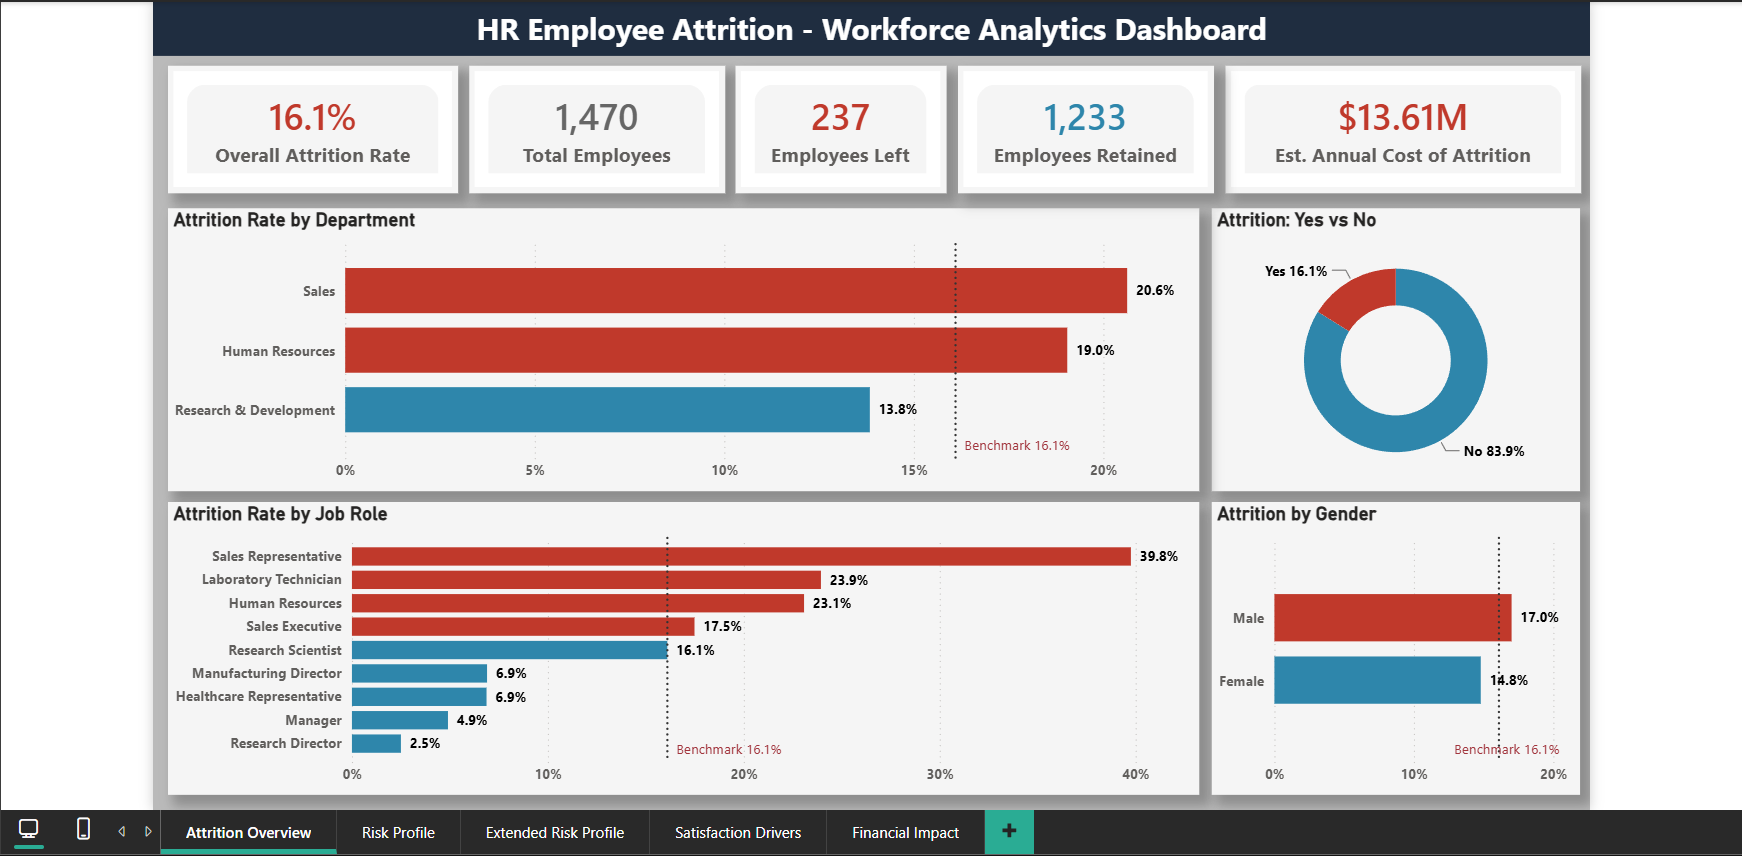

This screenshot's page, from the dashboard's own definition file:
{"tool":"powerbi","page":{"name":"Attrition Overview","canvas":[1280,720],"ordinal":0},"visuals":[{"type":"textbox","box":[0,0,1279,49],"z":0},{"type":"cardVisual","fields":{"Data":["HR Measures.Attrition Rate %"]},"box":[12.9,56.6,258.6,113.2],"z":1000},{"type":"cardVisual","fields":{"Data":["HR Measures.Total Employees"]},"box":[281.5,56.6,227.7,113.2],"z":2000},{"type":"cardVisual","fields":{"Data":["HR Measures.Employees Left"]},"box":[519.2,56.6,187.9,113.2],"z":3000},{"type":"cardVisual","fields":{"Data":["HR Measures.Total Annual Attrition Cost"]},"box":[954.7,56.6,316.5,113.2],"z":4000},{"type":"donutChart","title":"Attrition: Yes vs No","fields":{"Category":["Cleaned_Data.Attrition"],"Y":["HR Measures.Total Employees"]},"box":[943.1,184,328.1,252.2],"z":5000},{"type":"clusteredBarChart","title":"Attrition Rate by Department","fields":{"Category":["Cleaned_Data.Department"],"Y":["HR Measures.Attrition Rate %"]},"box":[12.9,184,918.7,252.2],"z":6000},{"type":"clusteredBarChart","title":"Attrition Rate by Job Role","fields":{"Category":["Cleaned_Data.JobRole"],"Y":["HR Measures.Attrition Rate %"]},"box":[12.9,445.2,918.7,261.2],"z":7000},{"type":"cardVisual","fields":{"Data":["HR Measures.Employees Retained"]},"box":[717,56.6,227.7,113.2],"z":8000},{"type":"barChart","title":"Attrition by Gender","fields":{"Category":["Cleaned_Data.Gender"],"Y":["HR Measures.Attrition Rate %"]},"box":[943.1,445.2,328.1,261.2],"z":9000}]}

Visuals, with their boxes in screenshot pixels (x1, y1, x2, y2):
textbox: rect(141, 0, 1589, 51)
cardVisual - HR Measures.Attrition Rate %: rect(155, 60, 448, 188)
cardVisual - HR Measures.Total Employees: rect(459, 60, 717, 188)
cardVisual - HR Measures.Employees Left: rect(729, 60, 942, 188)
cardVisual - HR Measures.Total Annual Attrition Cost: rect(1222, 60, 1581, 188)
"Attrition: Yes vs No" donutChart: rect(1209, 204, 1581, 490)
"Attrition Rate by Department" clusteredBarChart: rect(155, 204, 1196, 490)
"Attrition Rate by Job Role" clusteredBarChart: rect(155, 500, 1196, 796)
cardVisual - HR Measures.Employees Retained: rect(953, 60, 1211, 188)
"Attrition by Gender" barChart: rect(1209, 500, 1581, 796)
